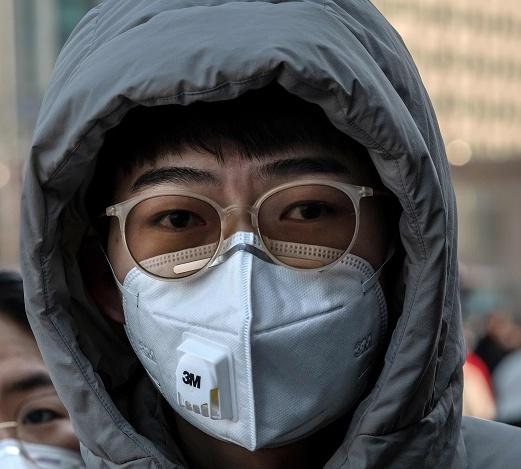OK: (116, 127, 388, 448), (1, 359, 84, 468)
